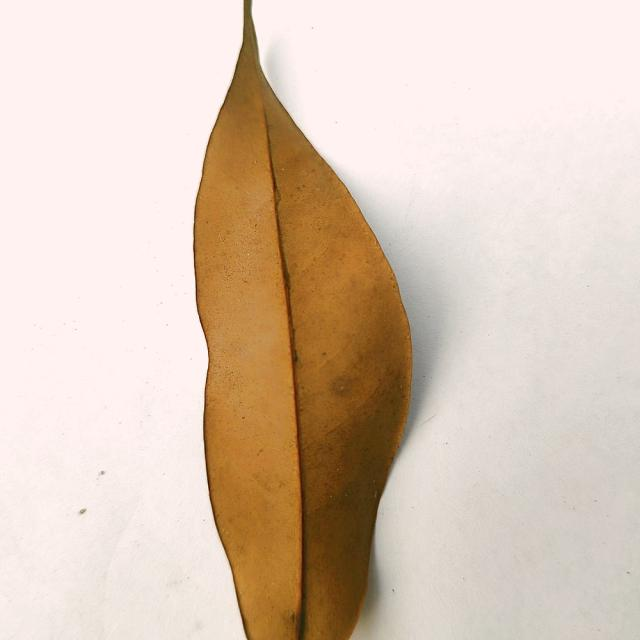Dry_Leaf-Lychee: (192, 0, 415, 639)
